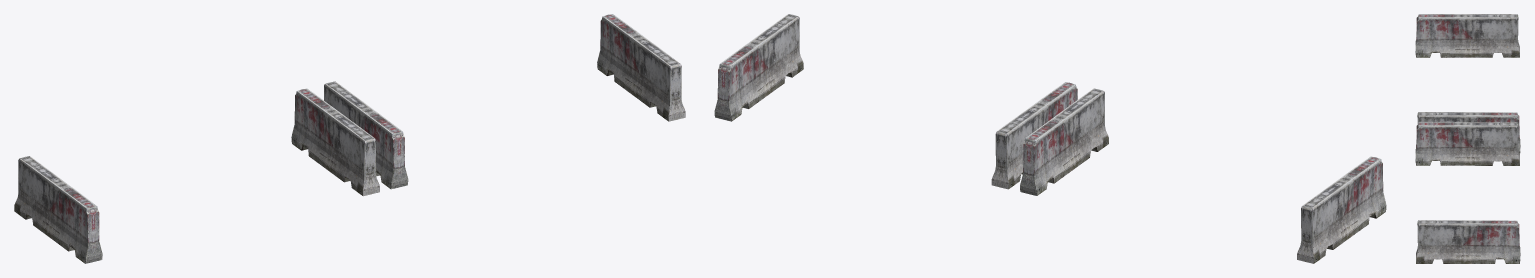
Rendered from Guardrail2.obj.
3 views of the same model, side by side, from view 1: azimuth 30°, elevation 25°; view 2: azimuth 150°, elevation 25°; view 3: azimuth 270°, elevation 25° (orthographic). The views are drawn at different scales.
Parts seen in each view (by area): view 1: Blocks.002; view 2: Blocks.002; view 3: Blocks.002.
Part boxes in pixels (<box>): Blocks.002: <box>14,14,685,263</box>; Blocks.002: <box>714,14,1386,263</box>; Blocks.002: <box>1415,14,1520,263</box>.
Size of the model in its own units: 742 by 63.31 by 155.
Materials: 2 (2 with a texture image).
